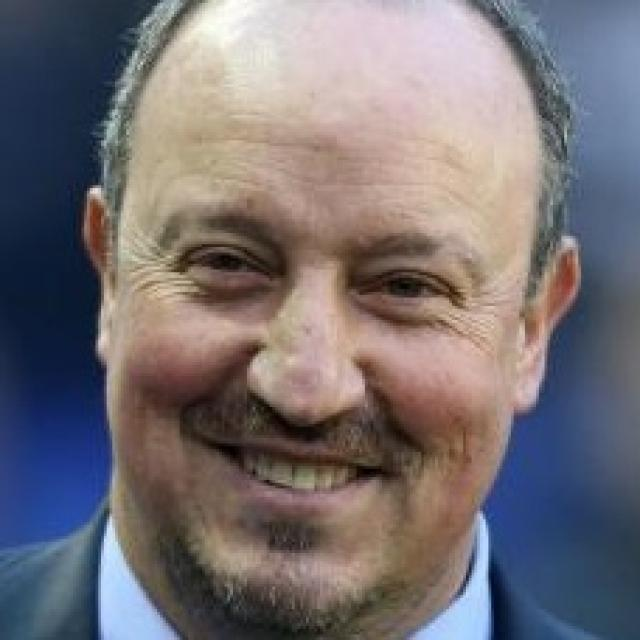Normal: (100, 0, 544, 634)
